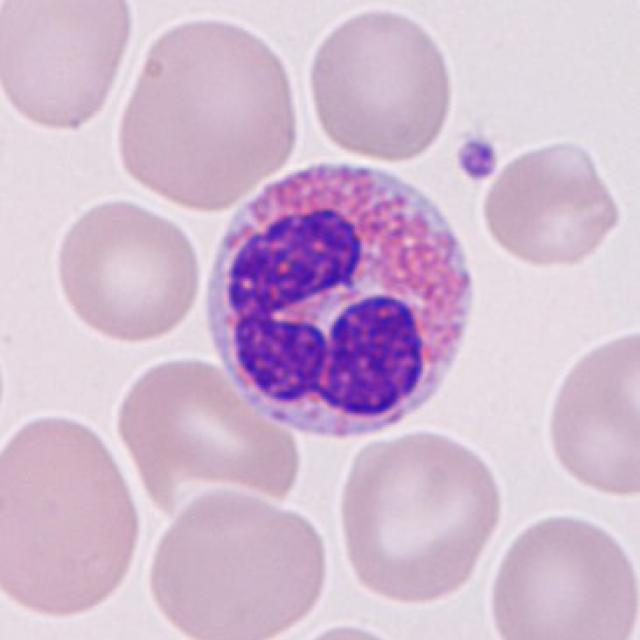Eosinophil: (196, 151, 490, 454)
Platelets: (453, 134, 500, 186)
RBC: (108, 9, 304, 213), (108, 352, 306, 520), (0, 404, 149, 625), (332, 425, 509, 607), (138, 482, 332, 640), (303, 3, 458, 165), (51, 194, 208, 345), (477, 134, 626, 272), (484, 506, 638, 638), (0, 0, 140, 137), (540, 323, 638, 501), (259, 619, 418, 640)
